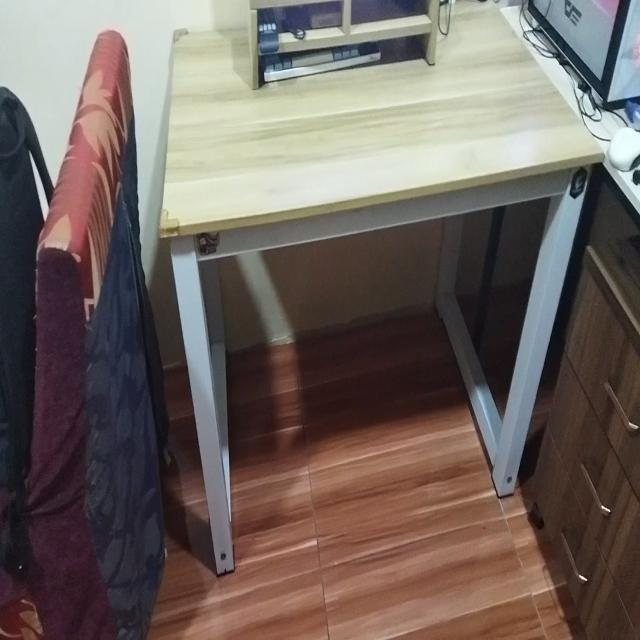table: (160, 12, 594, 572)
